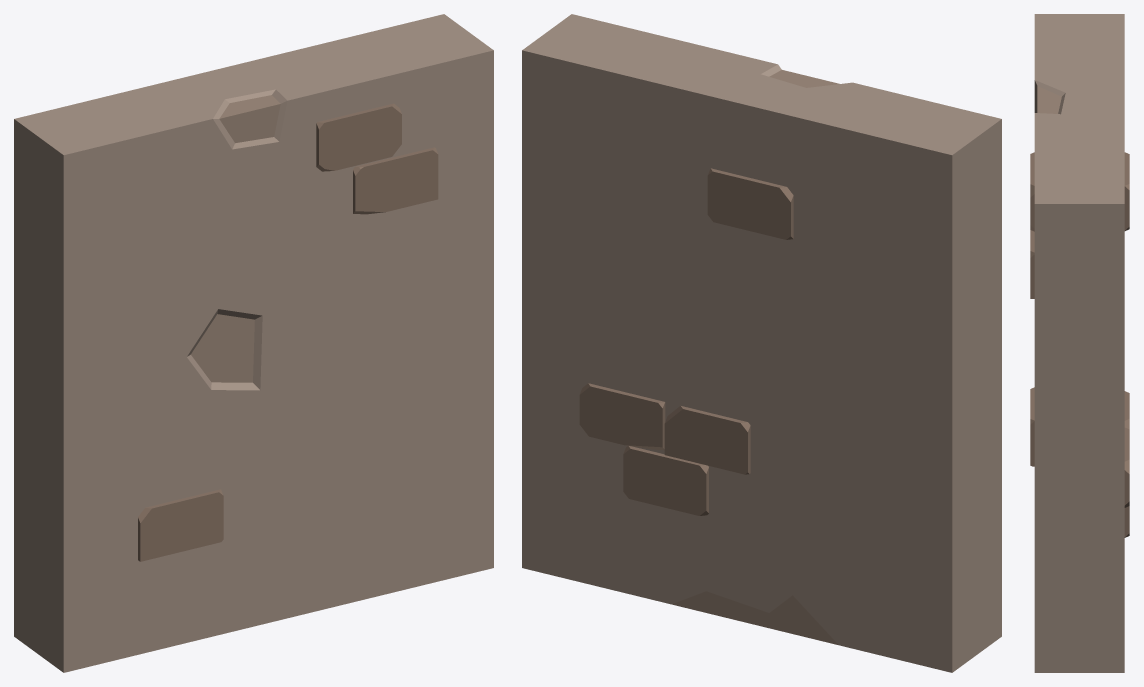
File: Fence_03.fbx
3 views of the same model, side by side, from view 1: azimuth 30°, elevation 25°; view 2: azimuth 150°, elevation 25°; view 3: azimuth 270°, elevation 25° (orthographic). The views are drawn at different scales.
Visible parts, largest first — view 1: Fence_03; view 2: Fence_03; view 3: Fence_03.
Part boxes in pixels (x1,y1,x2,y2): Fence_03: [14, 14, 493, 672]; Fence_03: [522, 14, 1001, 672]; Fence_03: [1030, 14, 1129, 672].
Size of the model in its own units: 200 by 230 by 44.26.
